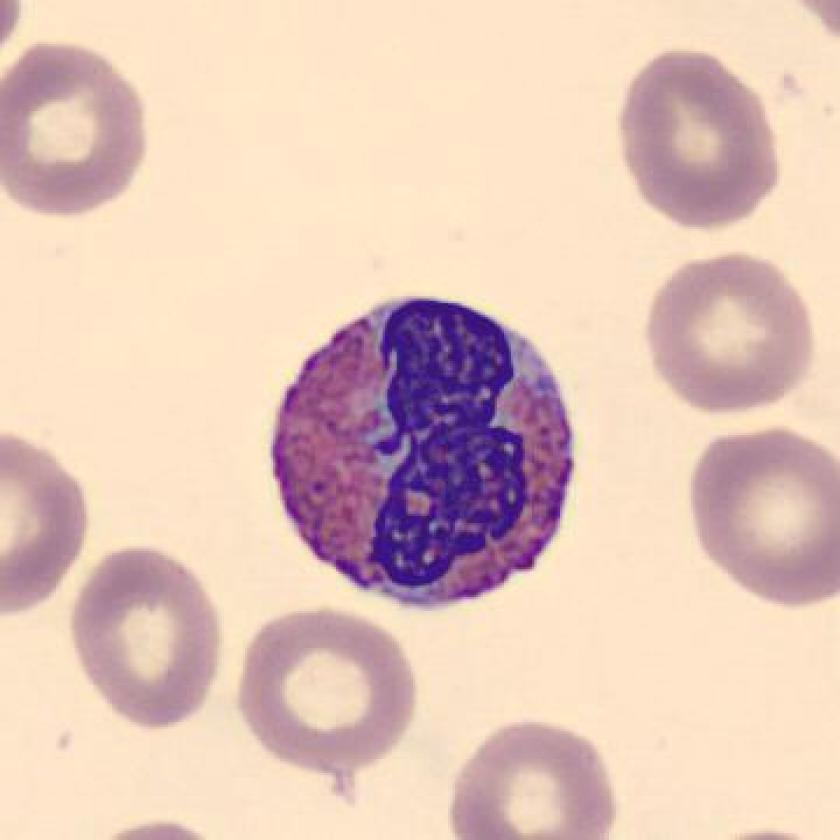eosinophil: (255, 281, 594, 619)
